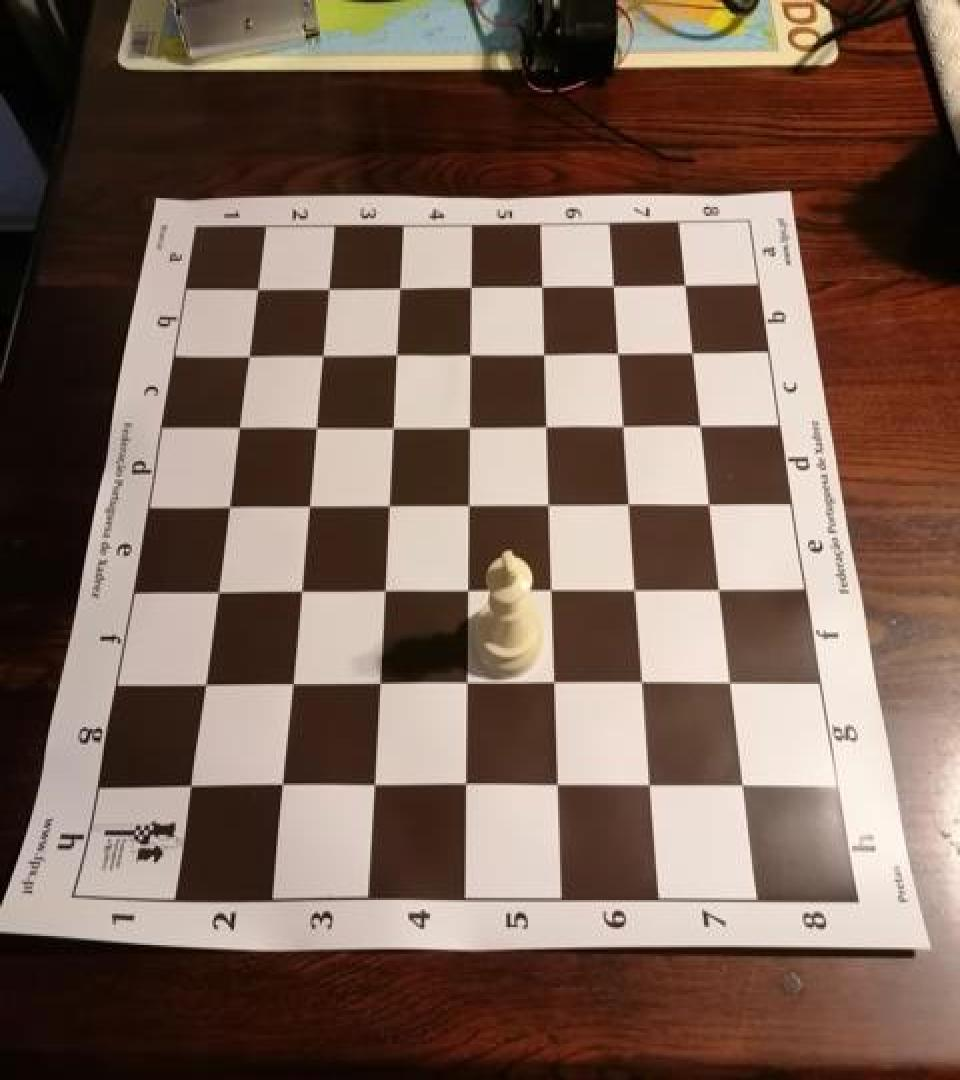xcorner: (729, 769, 761, 806), (636, 769, 668, 806), (542, 769, 574, 806), (449, 768, 481, 805), (356, 768, 388, 805), (263, 768, 295, 805), (674, 269, 706, 305), (601, 269, 633, 305), (528, 270, 560, 306), (455, 270, 487, 306), (383, 270, 415, 306), (311, 270, 343, 306), (239, 270, 271, 306), (681, 336, 713, 372), (605, 336, 637, 372), (530, 336, 562, 372), (455, 338, 487, 374), (379, 338, 411, 374), (304, 338, 336, 374), (229, 338, 261, 374), (689, 410, 721, 446), (611, 410, 643, 446), (532, 410, 564, 446), (454, 410, 486, 446), (375, 410, 407, 446), (297, 410, 329, 446), (219, 410, 251, 446), (698, 488, 730, 524), (616, 488, 648, 524), (534, 488, 566, 524), (453, 488, 485, 524), (371, 488, 403, 524), (290, 488, 322, 524), (209, 488, 241, 524), (708, 574, 740, 610), (622, 574, 654, 610), (537, 574, 569, 610), (451, 574, 483, 610), (367, 574, 399, 610), (282, 574, 314, 610), (197, 574, 229, 610), (718, 667, 750, 703), (628, 667, 660, 703), (539, 667, 571, 703), (450, 667, 482, 703), (361, 667, 393, 703), (273, 666, 305, 702), (185, 666, 217, 702), (171, 767, 203, 803)
